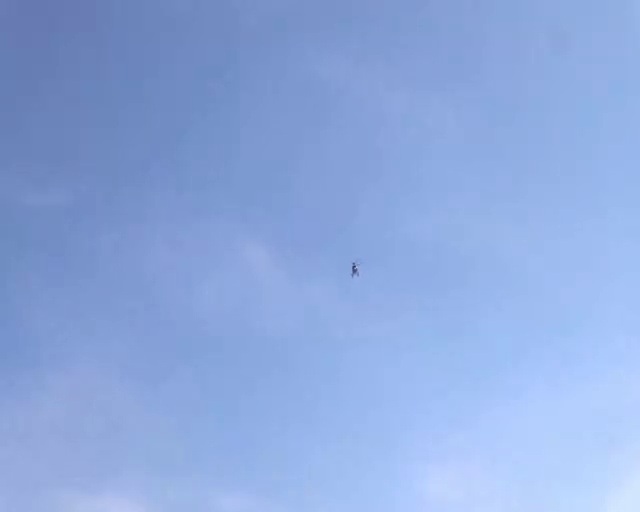HELICOPTER: (351, 260, 360, 277)
